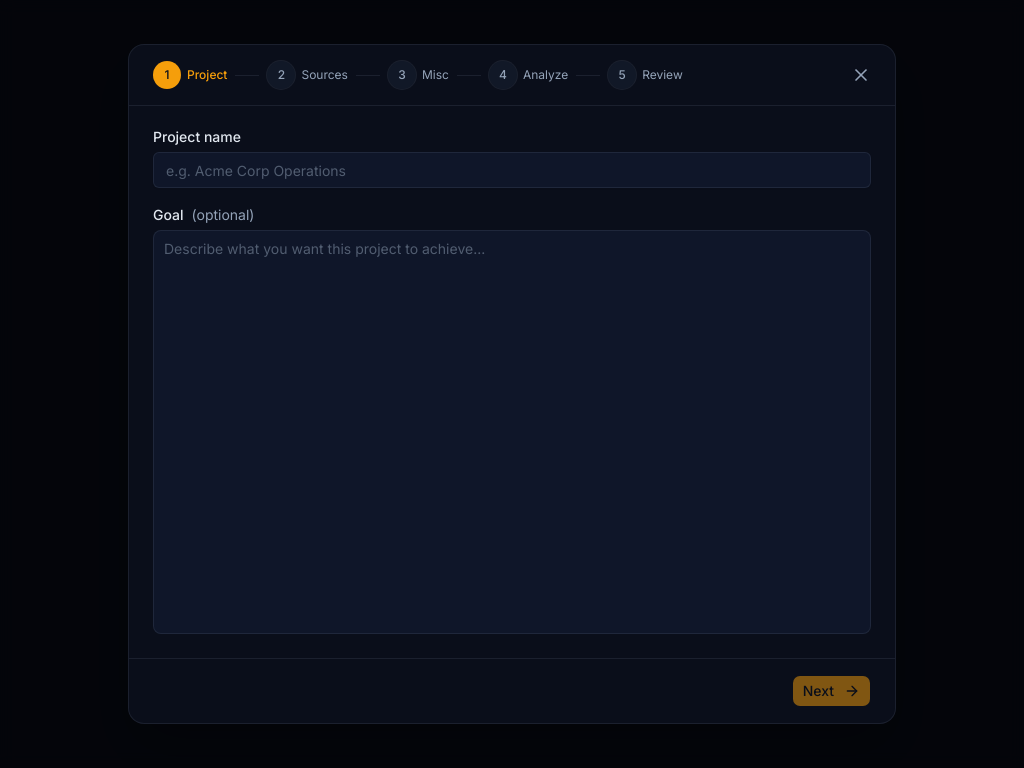
Scenario: CreateProjectWizard › Step 2 - Sources › can add a URL source
Type "Test" into the field labelled "Project name".
click(512, 170); type("Test")  # box left=153, top=152, right=871, bottom=188
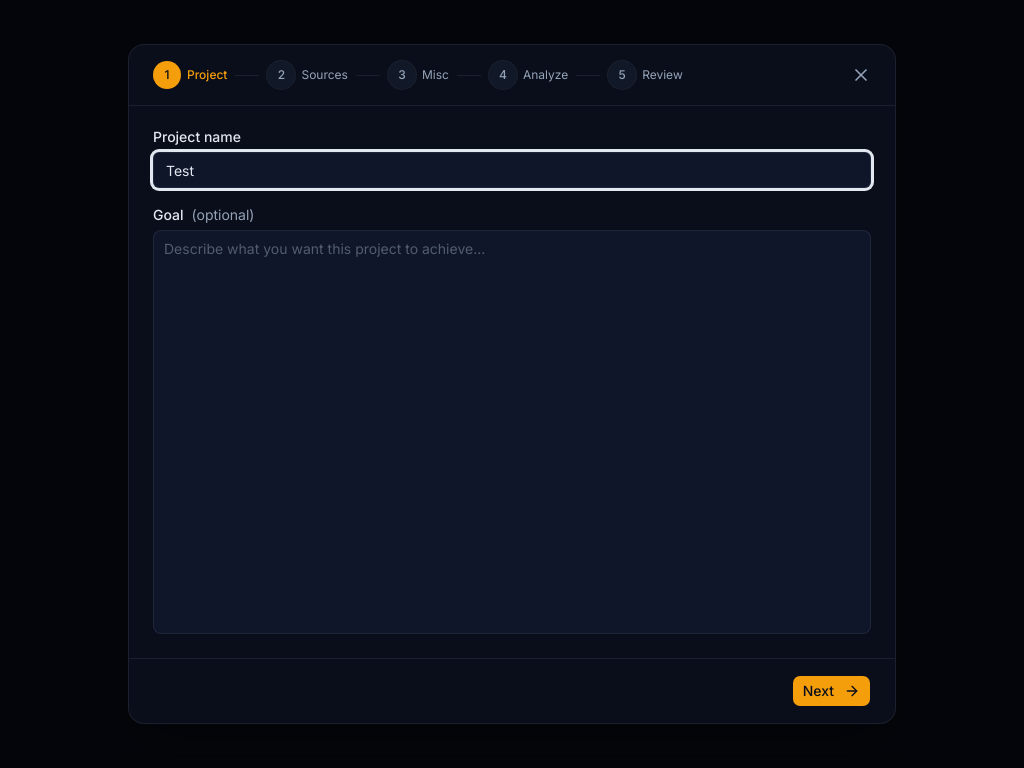
Click the button "Next".
click(831, 691)  # box left=792, top=675, right=871, bottom=707
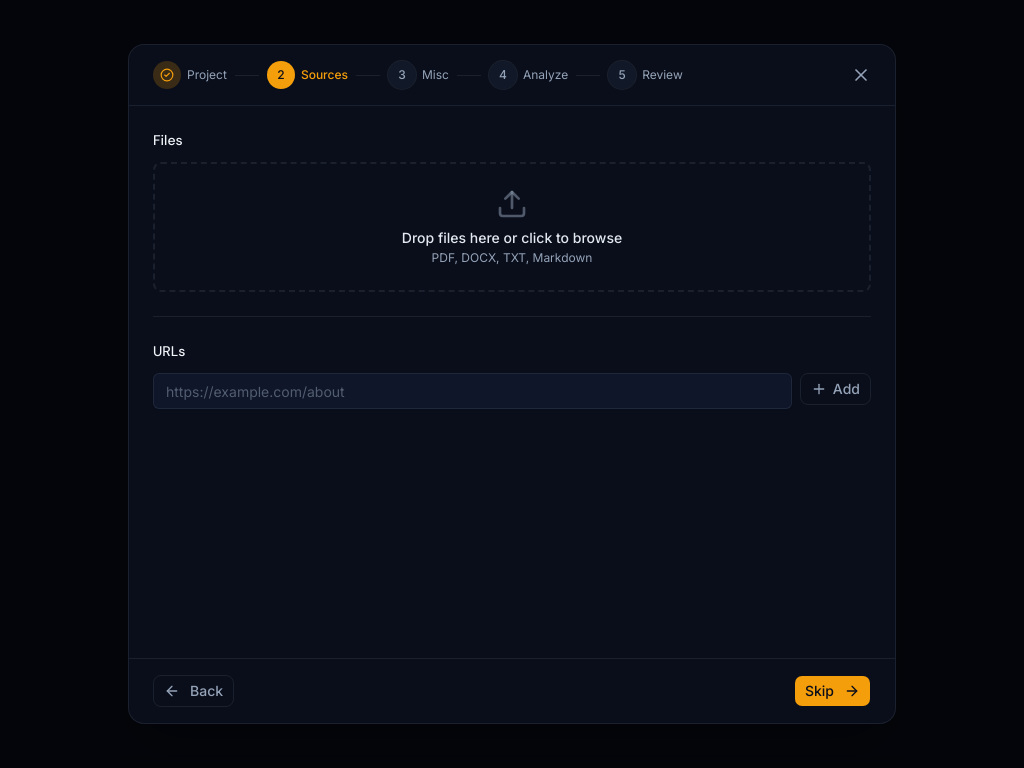
Expected: the heading "Files" is shown, left=153, top=131, right=183, bottom=149
Type "https://example.com" into the field with placeholder "https://example.com/about".
click(472, 391); type("https://example.com")  # box left=153, top=373, right=792, bottom=409
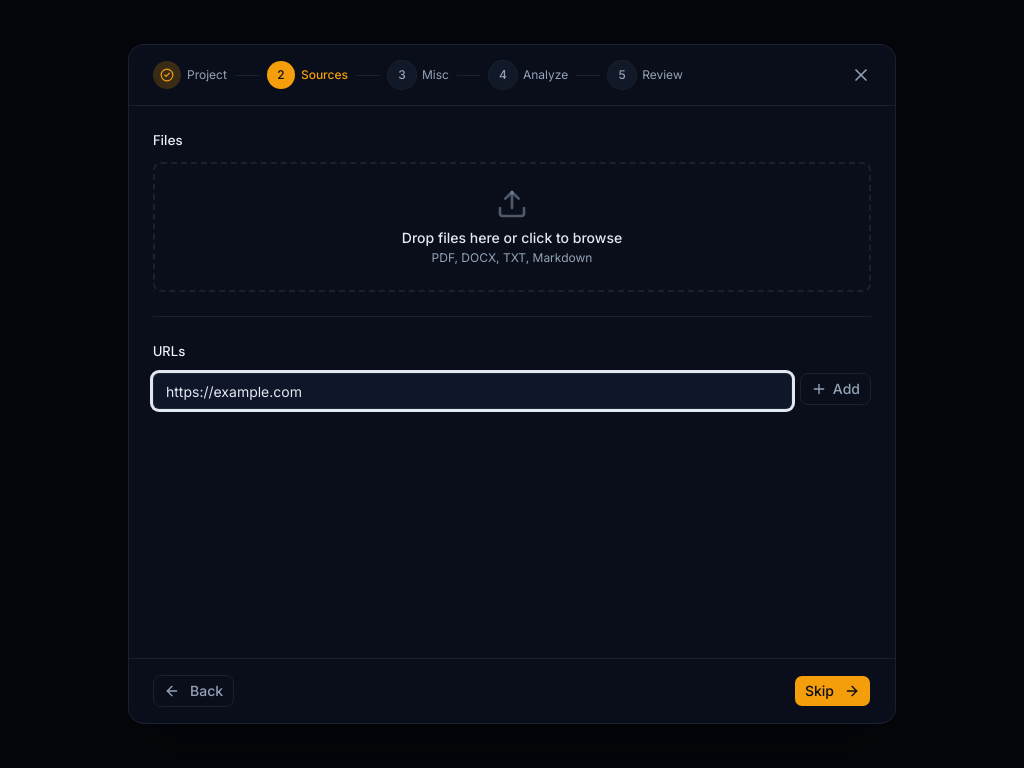
Click the button "Add".
click(835, 389)  # box left=800, top=373, right=871, bottom=405
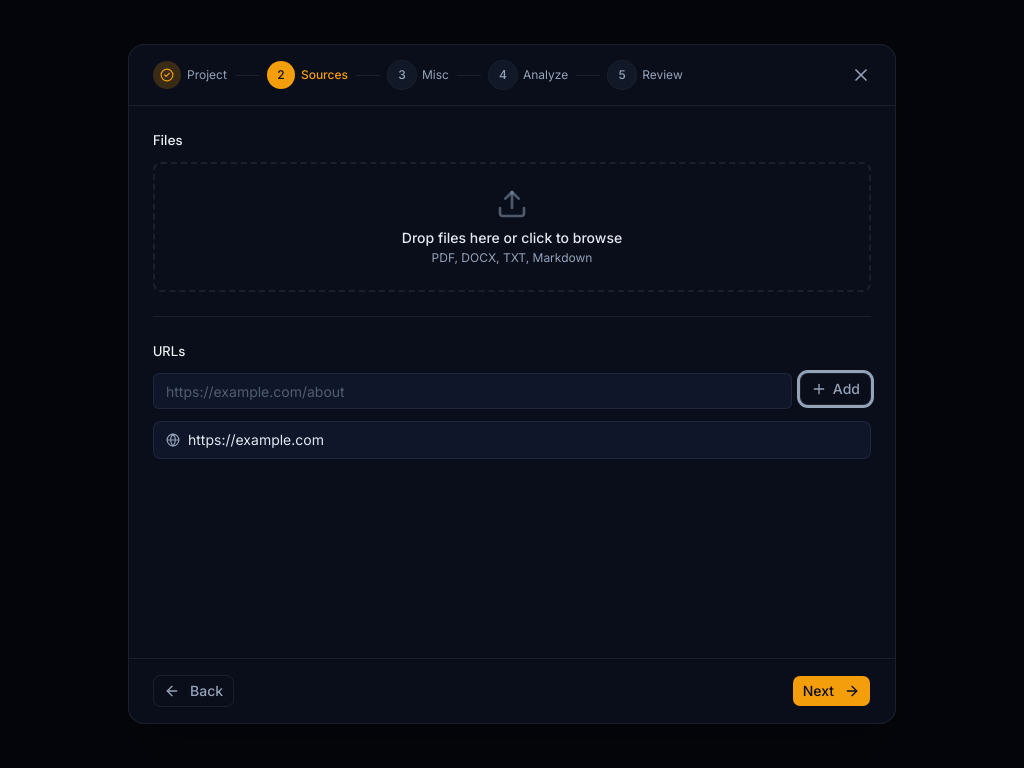
Expected: the text "https://example.com" is shown, left=188, top=431, right=324, bottom=448
